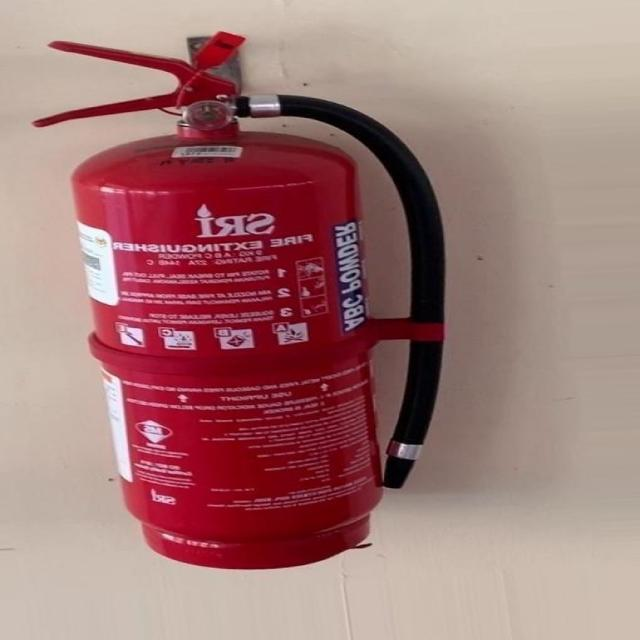fire_extinguisher: (26, 31, 457, 574)
